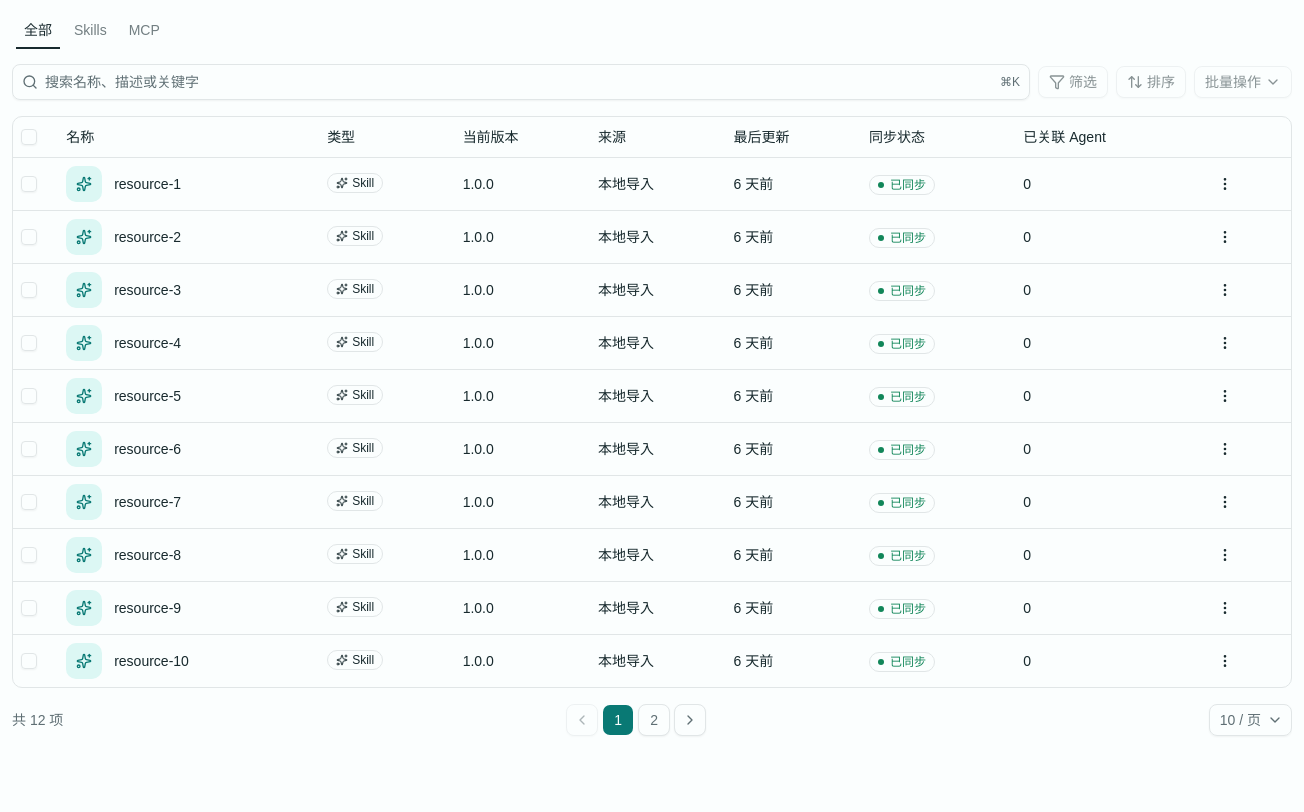
Test case: ResourceList › 超过一页时应分页, 默认只显示第一页(10 条)且显示总数
The image size is (1304, 812).
Check: the text "resource-1" is shown, box [114, 174, 181, 194]
Check: the text "resource-10" is shown, box [114, 650, 189, 670]
Click the button "2" at (654, 720), box [638, 704, 670, 736]
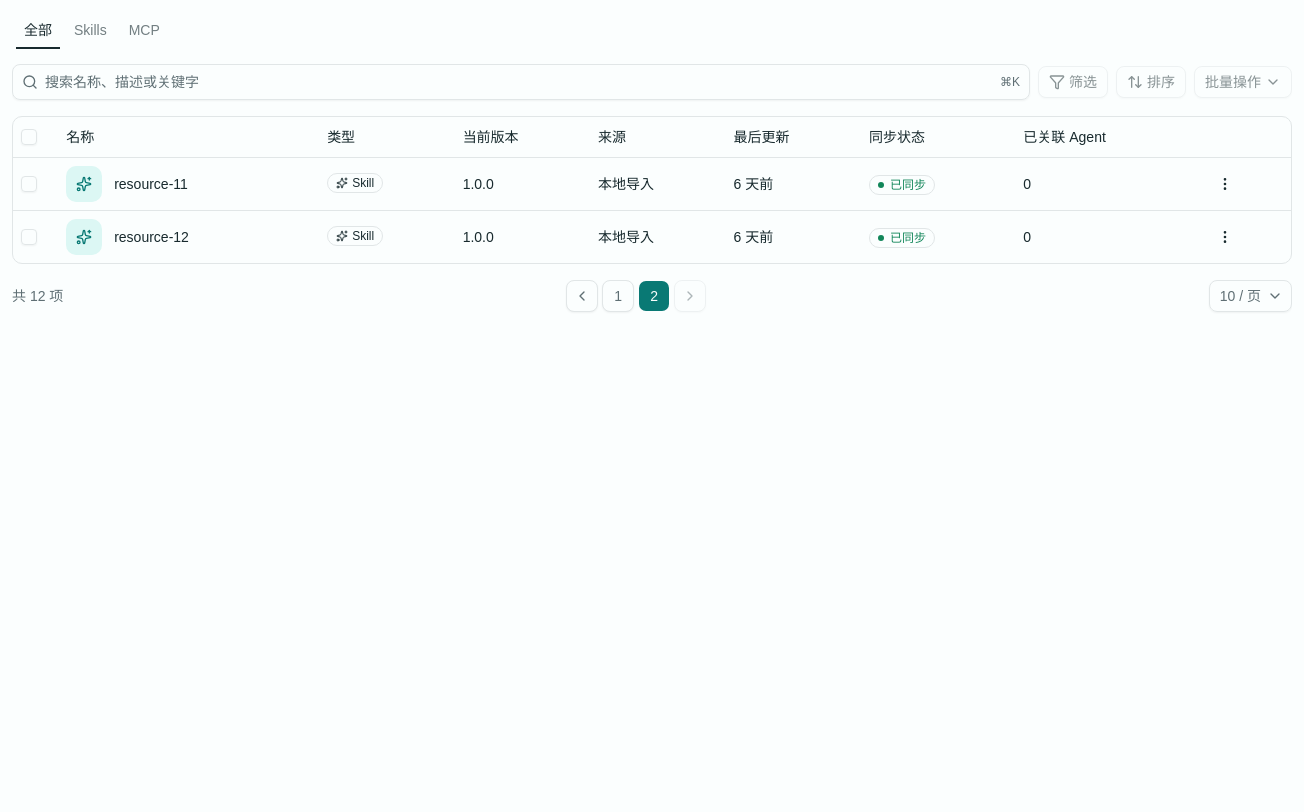
Check: the text "resource-11" is shown, box [114, 174, 188, 194]
